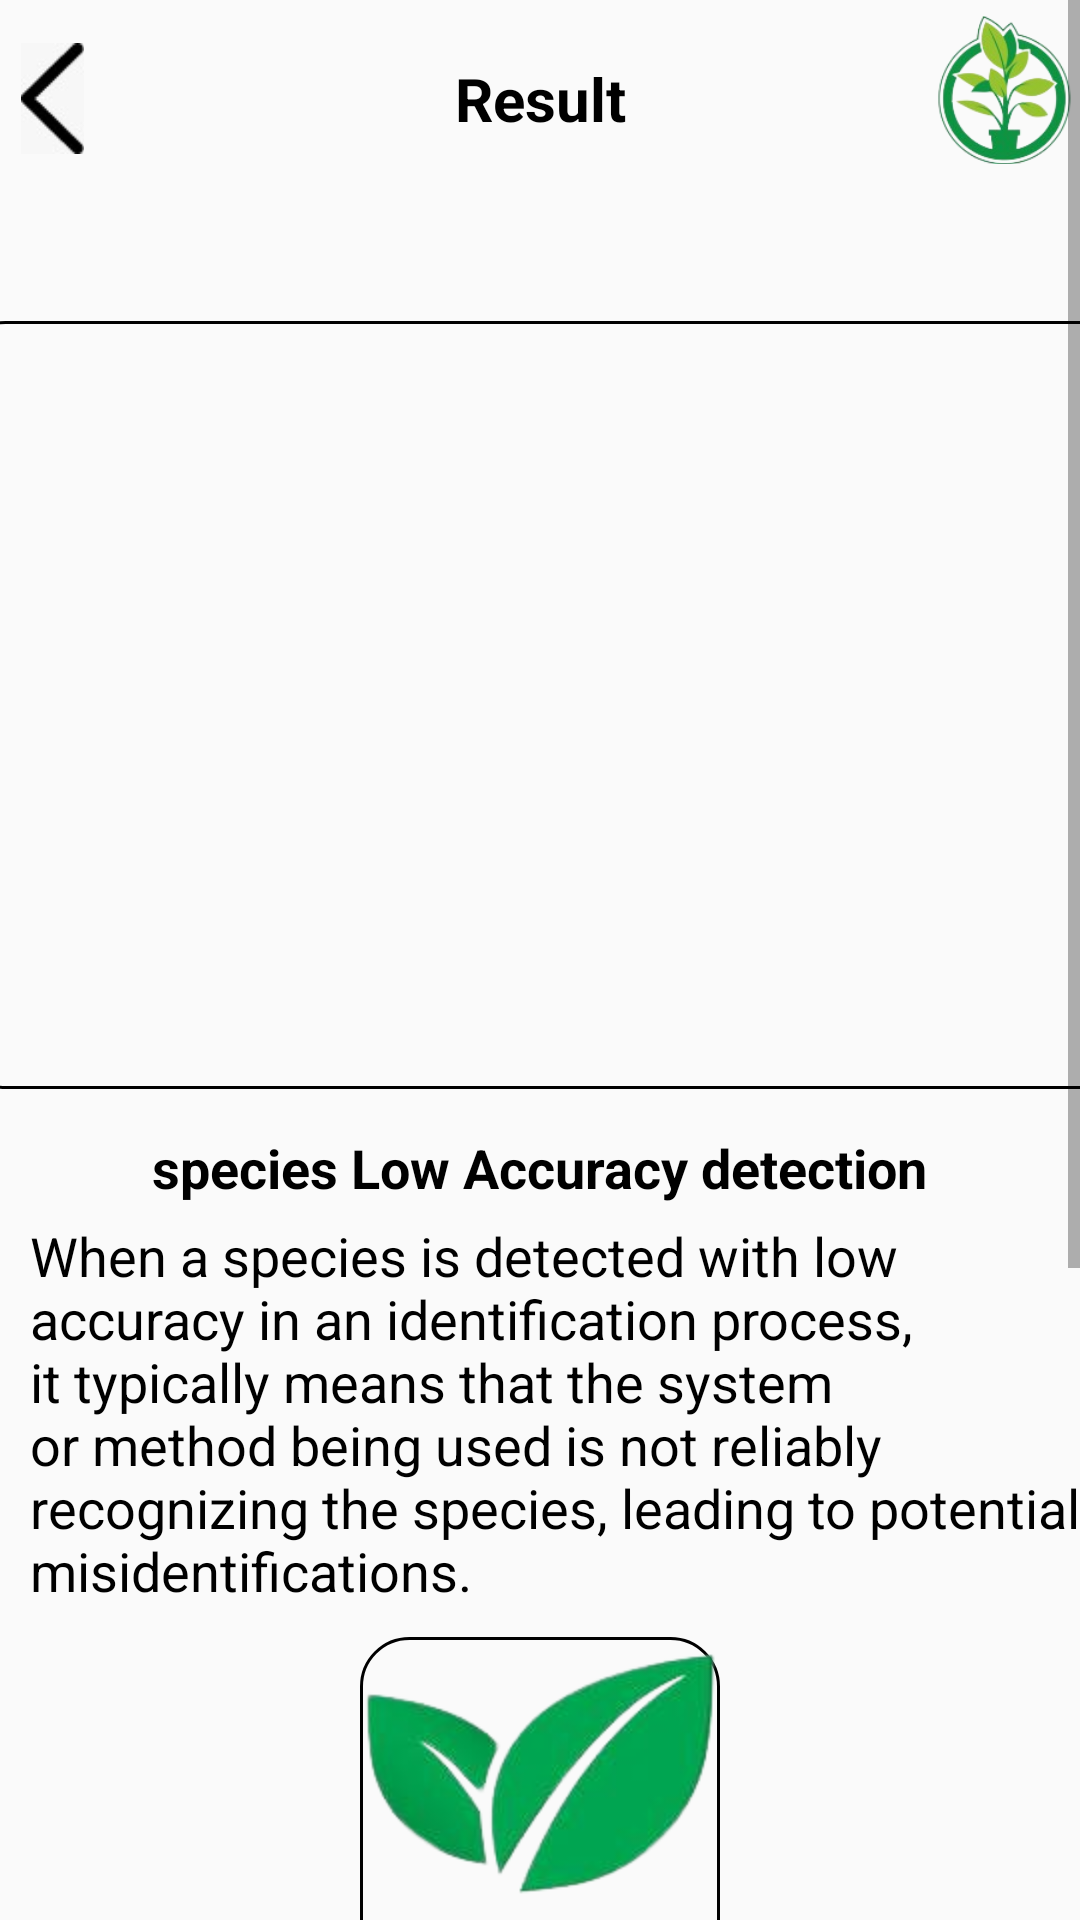

Where to tap for icons on this 1080x1920 app screen, as [x,y]:
back: [52,98]
